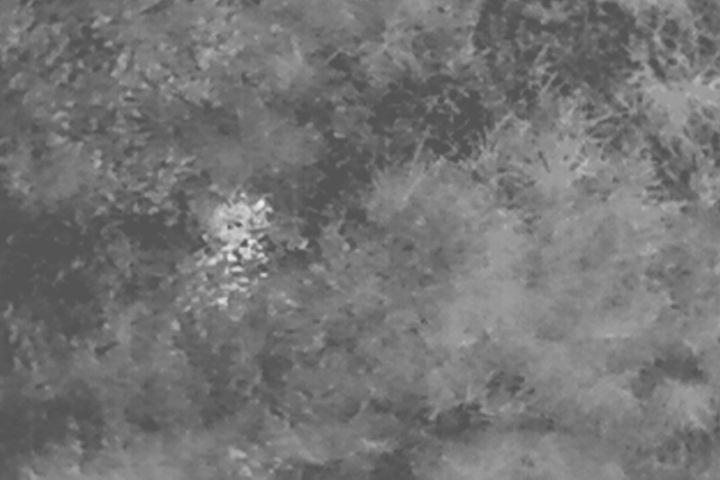landmine: (209, 195, 266, 247)
